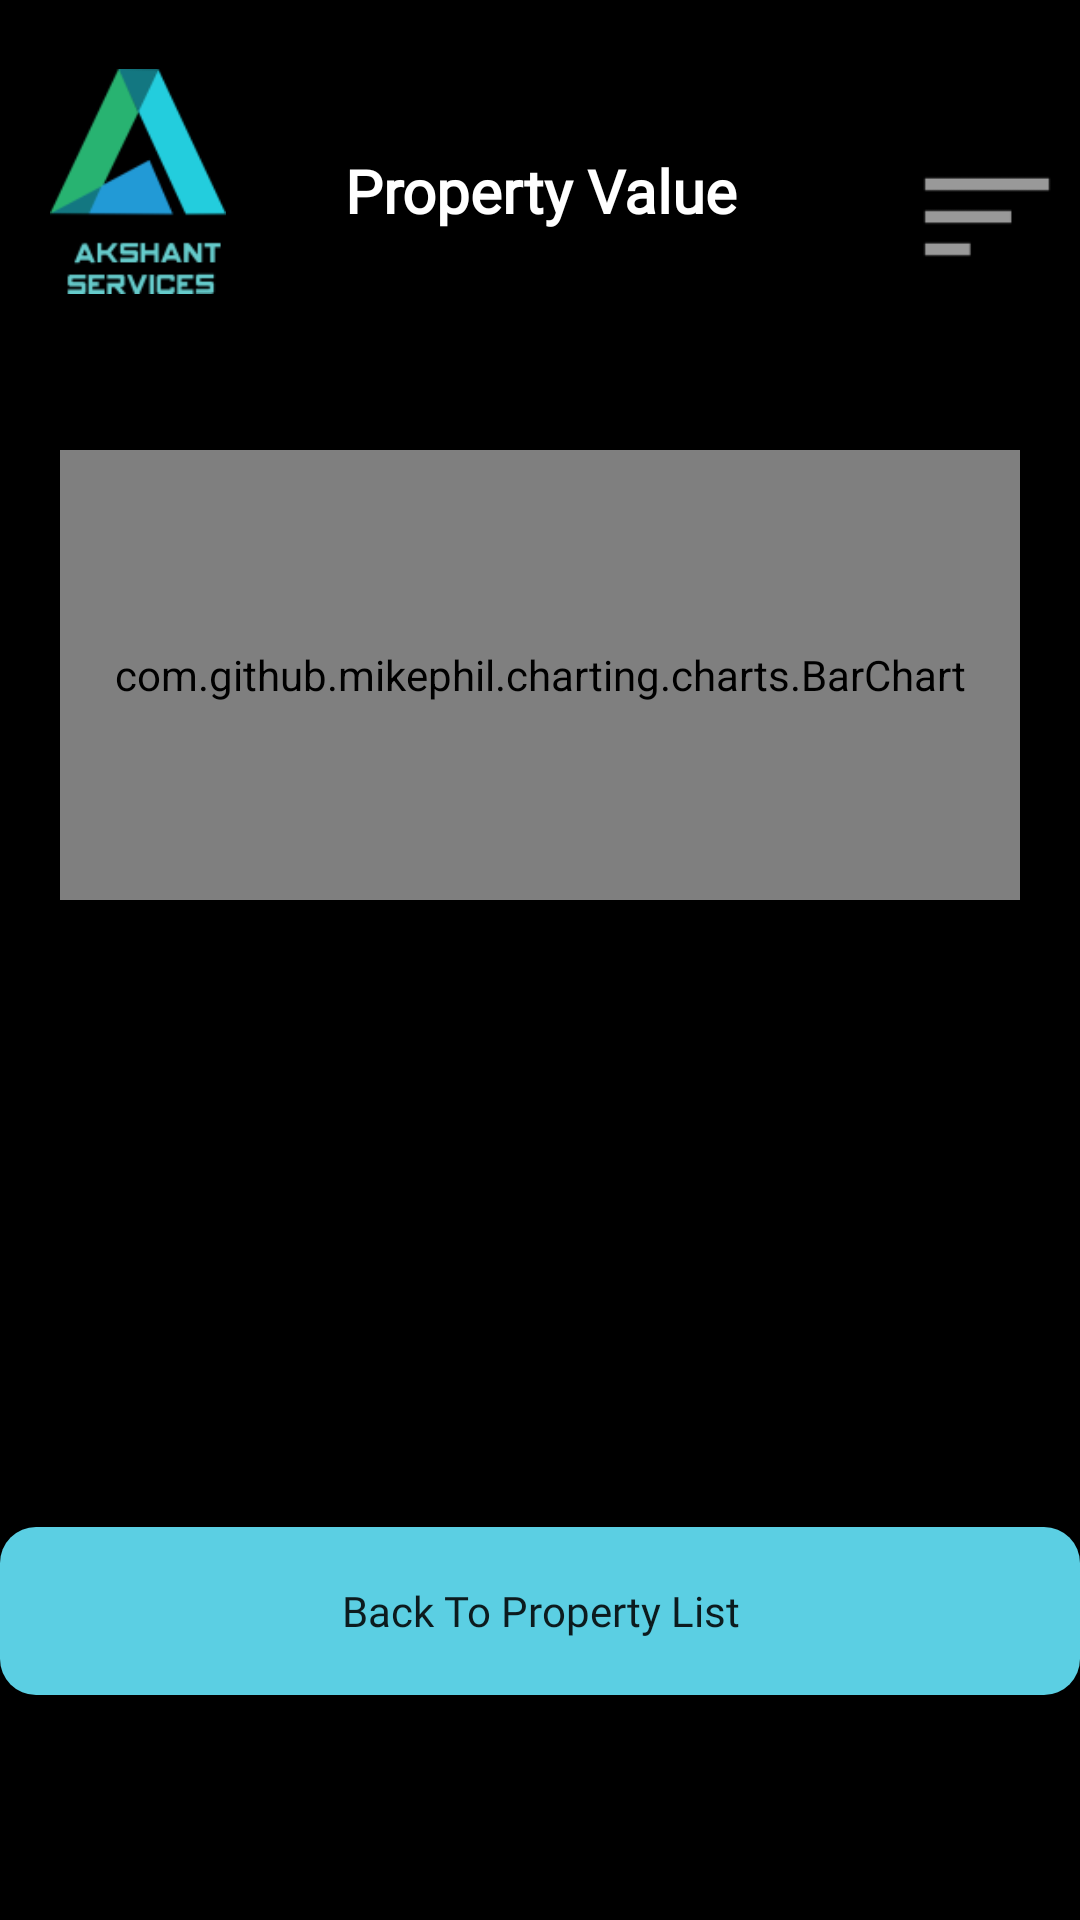

Icons on this 1080px×1920px Android screen, each with its box as (x1, y1, x2, y2):
sort by size: (924, 177, 1050, 256)
